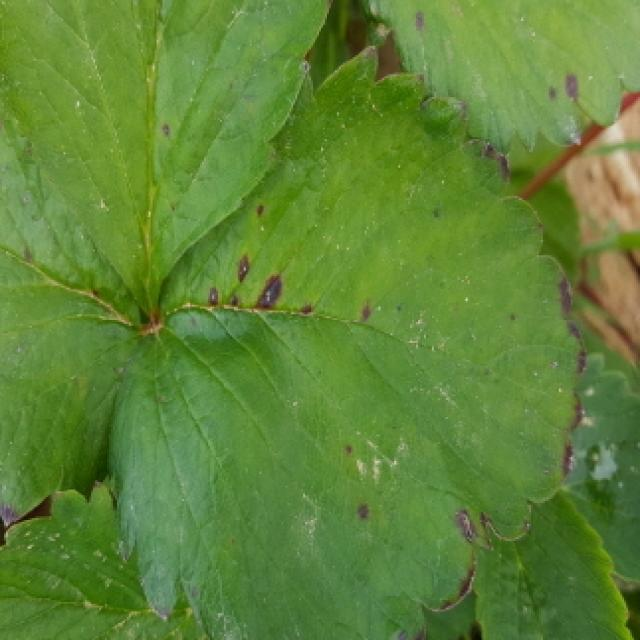Leaf Spot: (105, 44, 591, 640), (368, 0, 640, 156), (0, 478, 210, 640)
